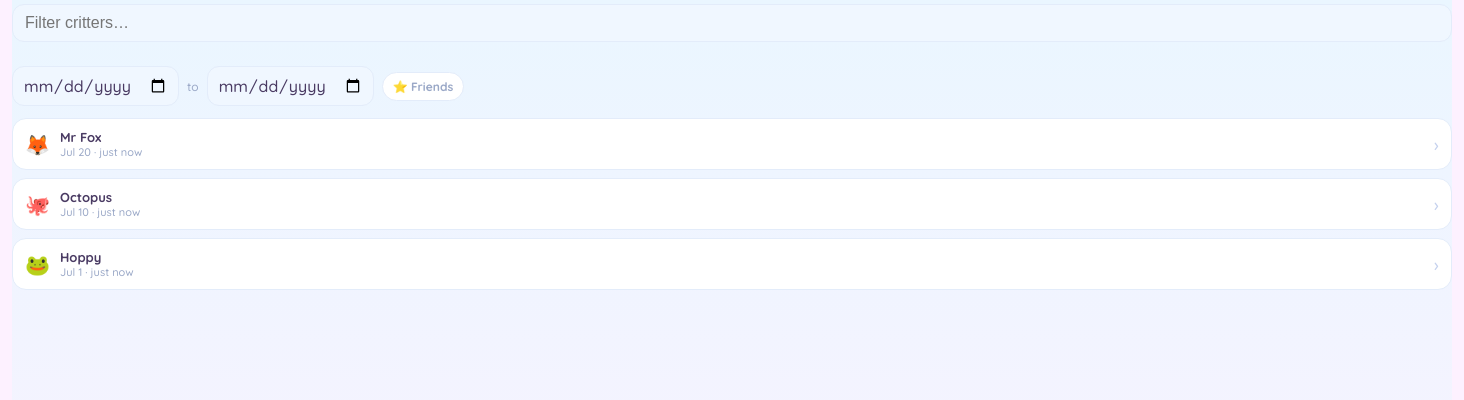
text filter › Clear resets the text along with the other filters
This screenshot has width=1464, height=400.
Type "fox" into the search field labelled "Filter critters" at (732, 23), box [12,4,1452,42]
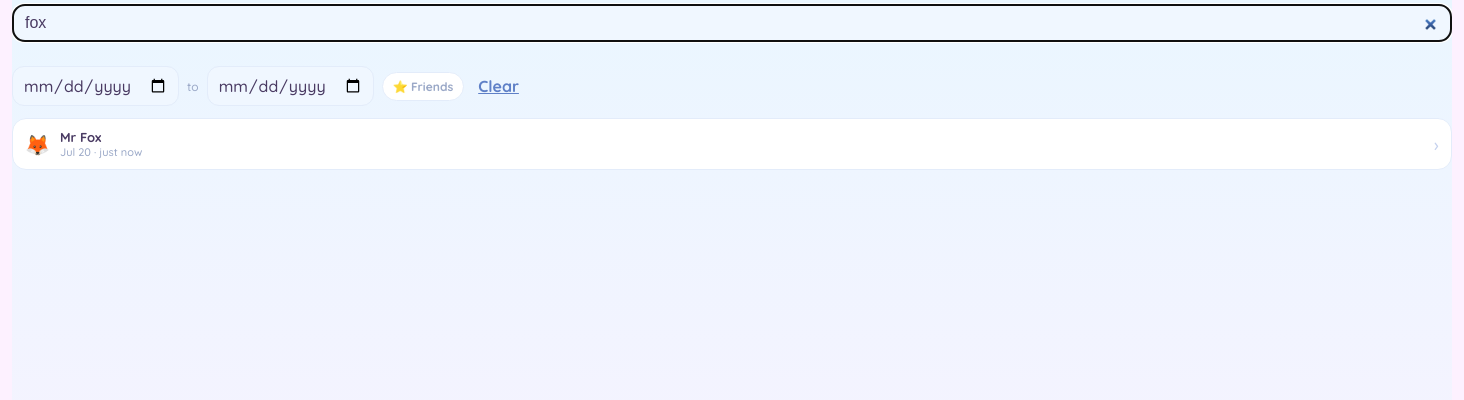
Expected: the number of list items is 1, [12,118,1452,170]
Click the button "Clear" at (499, 86), box [472,75,525,97]
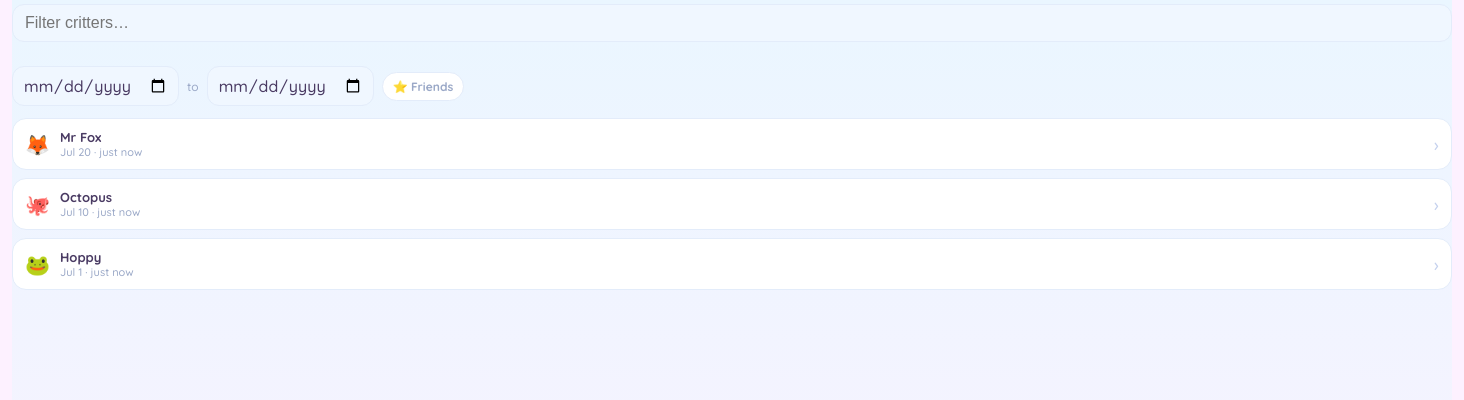
Expected: the number of list items is 3, [12,118,1452,170]; [12,178,1452,230]; [12,238,1452,290]
Expected: the search field labelled "Filter critters" is empty, [12,4,1452,42]
